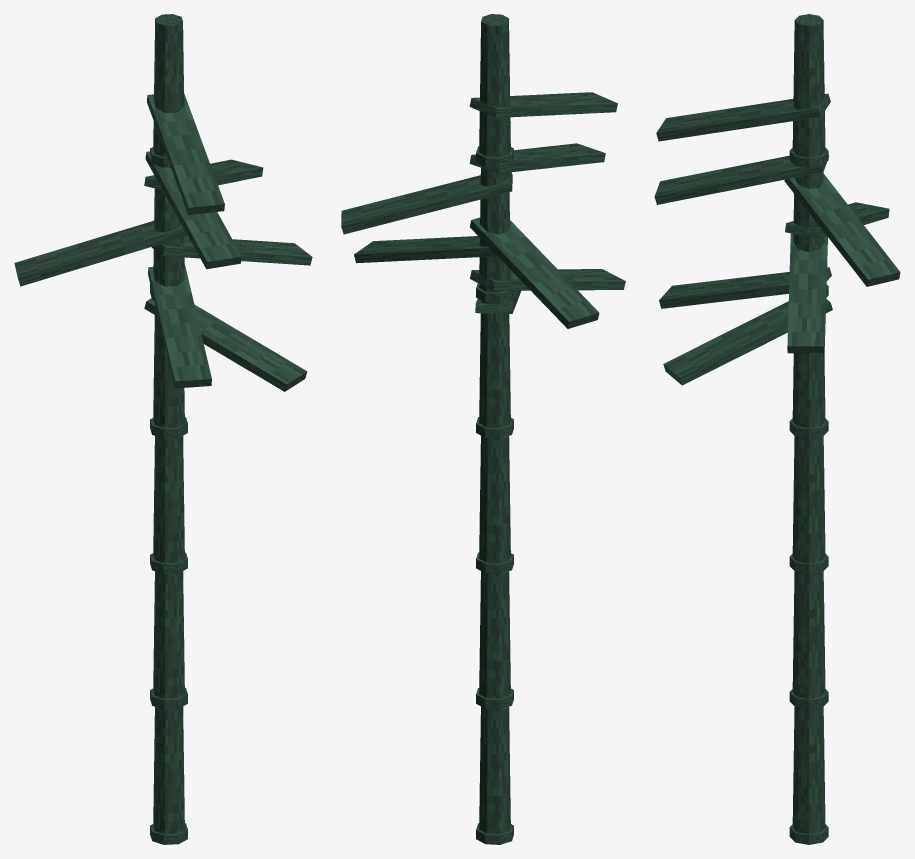
File: bamboo_10.glb
3 views of the same model, side by side, from view 1: azimuth 30°, elevation 25°; view 2: azimuth 150°, elevation 25°; view 3: azimuth 270°, elevation 25° (orthographic).
Visible parts, largest first — view 1: Leaf, Leaf.006, Leaf.001, Stem.001, Stem.002, Stem, Leaf.003, Leaf.005, Stem.005, Stem.003, Leaf.002, Stem.004 (+1 smaller); view 2: Leaf.001, Stem.005, Leaf.004, Stem.001, Stem.002, Stem, Stem.003, Leaf.002, Leaf, Stem.004, Leaf.005, Leaf.006; view 3: Leaf.004, Leaf.002, Stem.005, Stem, Stem.002, Stem.001, Leaf.003, Leaf.005, Leaf, Leaf.006, Stem.003, Stem.004 (+5 smaller).
Part boxes in pixels (x1,y1,x2,y2): Leaf: (147, 93, 224, 214); Leaf.006: (148, 265, 211, 388); Leaf.001: (14, 221, 187, 286); Stem.001: (153, 571, 184, 698); Stem.002: (153, 436, 184, 563); Stem: (153, 706, 184, 834); Leaf.003: (144, 298, 307, 391); Leaf.005: (145, 151, 241, 269); Stem.005: (153, 14, 184, 157); Stem.003: (153, 315, 184, 427); Leaf.002: (151, 236, 312, 265); Stem.004: (153, 167, 184, 286); Leaf.001: (470, 217, 599, 328); Stem.005: (479, 14, 510, 157); Leaf.004: (341, 172, 512, 234); Stem.001: (479, 571, 510, 698); Stem.002: (479, 436, 510, 563); Stem: (479, 706, 510, 834); Stem.003: (479, 300, 510, 427); Leaf.002: (354, 236, 497, 263); Leaf: (469, 92, 617, 117); Stem.004: (479, 168, 510, 292); Leaf.005: (469, 143, 605, 173); Leaf.006: (470, 269, 625, 290); Leaf.004: (784, 174, 900, 286); Leaf.002: (787, 233, 827, 353); Stem.005: (792, 14, 825, 157); Stem: (792, 707, 825, 834); Stem.002: (792, 436, 825, 563); Stem.001: (792, 571, 825, 698); Leaf.003: (663, 299, 832, 385); Leaf.005: (654, 148, 828, 204); Leaf: (656, 93, 830, 141); Leaf.006: (659, 267, 831, 308); Stem.003: (792, 353, 825, 428); Stem.004: (793, 172, 824, 251).
Size of the model in its own units: 1.46 by 4.37 by 1.19.
1 material, 1 textured.
